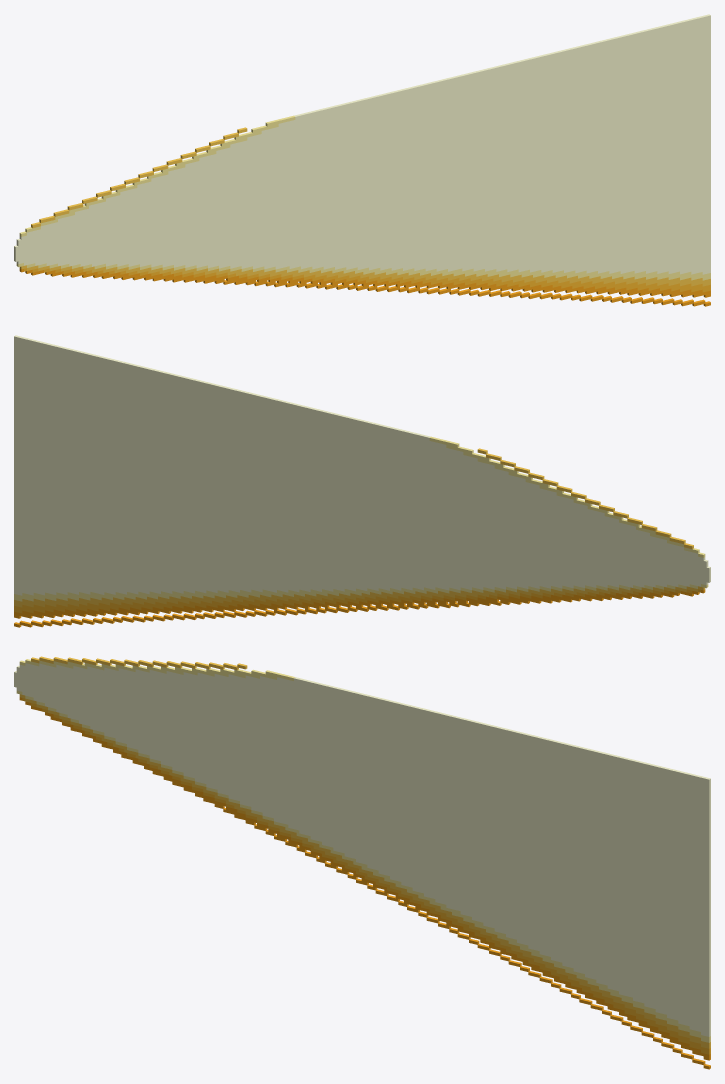
The model's file is Fight_748_2_07_fx.obj.
3 views of the same model, one above another, from view 1: azimuth 30°, elevation 25°; view 2: azimuth 150°, elevation 25°; view 3: azimuth 330°, elevation 25° (orthographic).
Bounding box in the file's own units: 24.6 × 9.8 × 0.1.
1 material, 1 textured.
